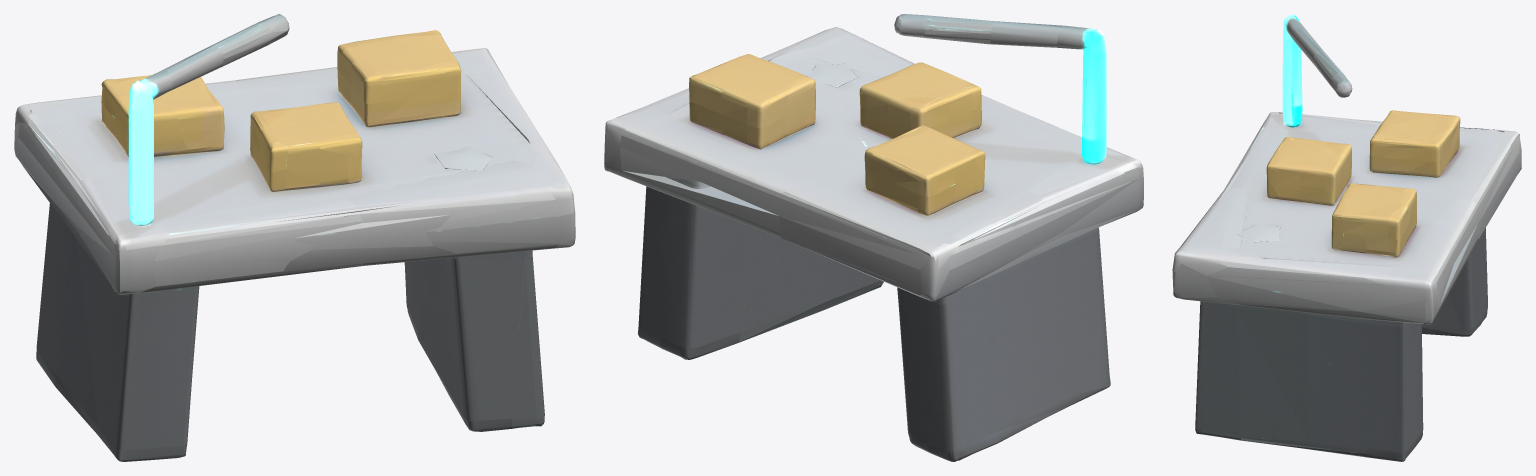
Rendered from modular-workshop.glb.
3 renders of one model, left to right at view 1: azimuth 30°, elevation 25°; view 2: azimuth 150°, elevation 25°; view 3: azimuth 270°, elevation 25°, orthographic. The views are drawn at different scales.
Size of the model in its own units: 1 by 0.7754 by 0.8359.
1 material, 1 textured.
